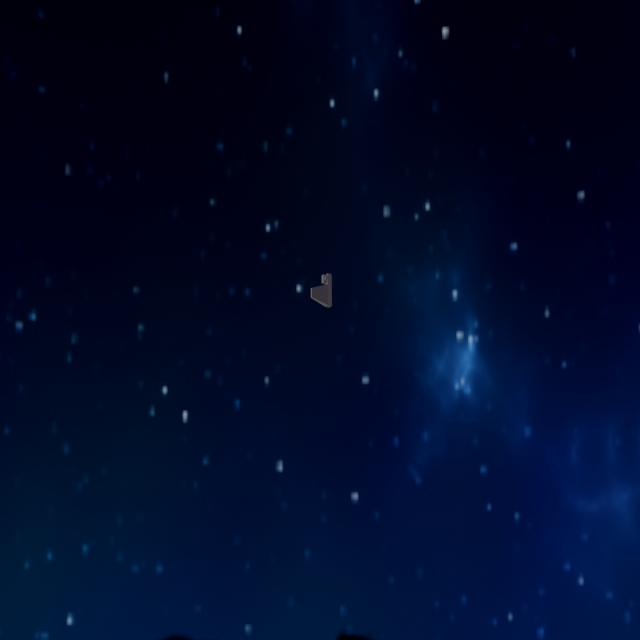large_debris: (306, 262, 338, 314)
